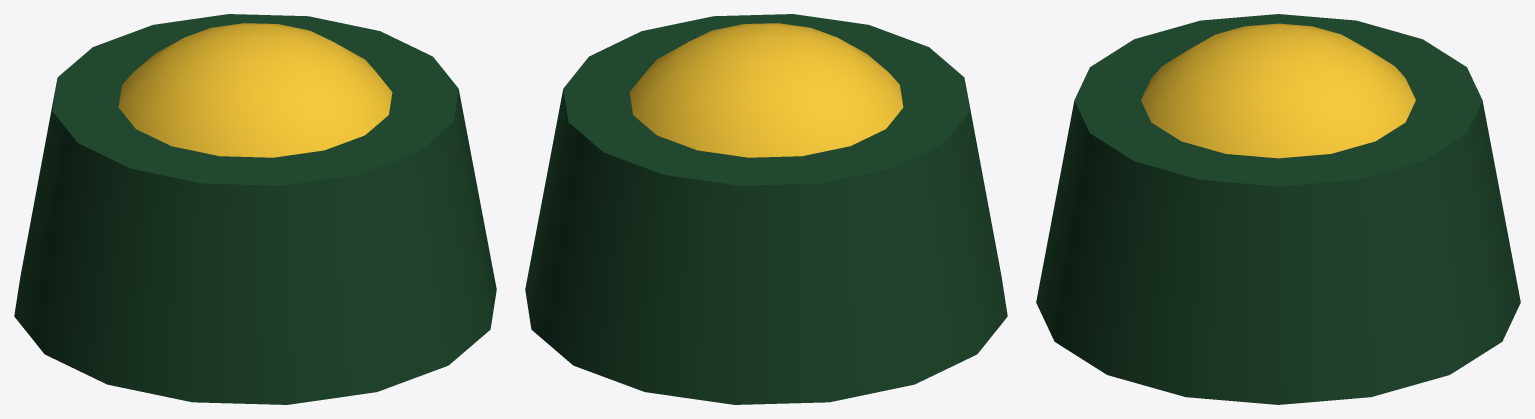
File: gunkan_uni.glb
The picture shows the model from 3 angles, left to right: view 1: azimuth 30°, elevation 25°; view 2: azimuth 150°, elevation 25°; view 3: azimuth 270°, elevation 25°; orthographic projection.
Visible parts, largest first — view 1: nori_wrap, uni; view 2: nori_wrap, uni; view 3: nori_wrap, uni.
Part boxes in pixels (bbox=[...]): nori_wrap: bbox=[14, 14, 496, 404]; uni: bbox=[118, 23, 392, 157]; nori_wrap: bbox=[525, 14, 1007, 404]; uni: bbox=[629, 23, 903, 157]; nori_wrap: bbox=[1036, 14, 1520, 404]; uni: bbox=[1141, 23, 1415, 158].
Size of the model in its own units: 0.76 by 0.56 by 0.76.
